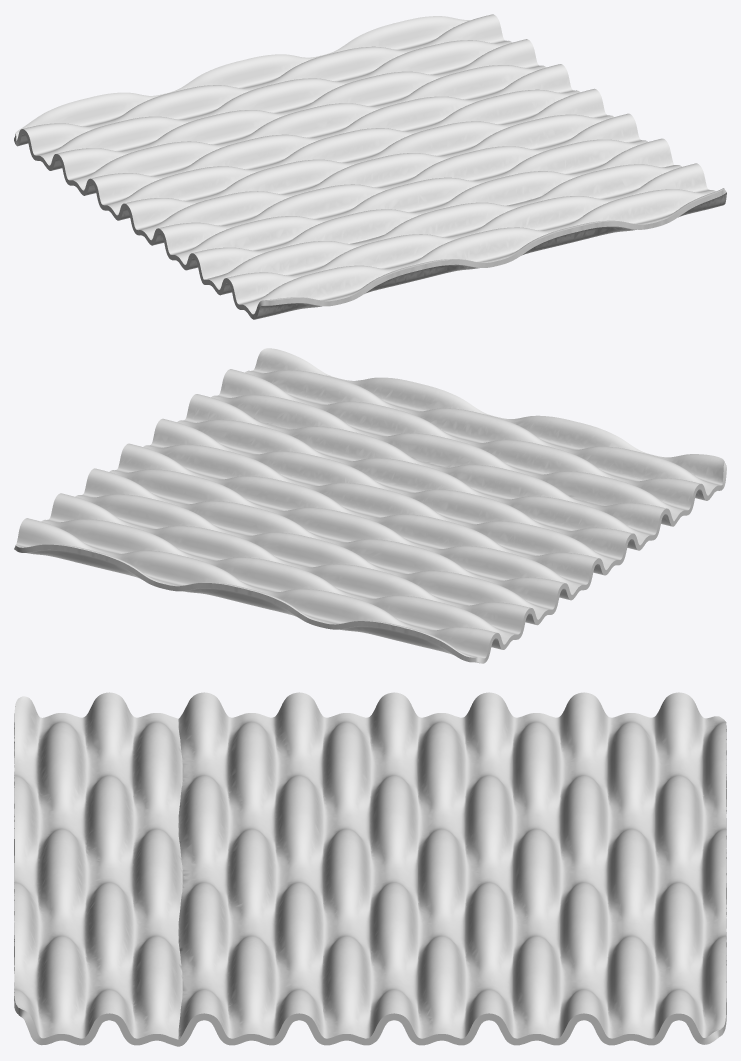
3 views of the same model, one above another, from view 1: azimuth 30°, elevation 25°; view 2: azimuth 150°, elevation 25°; view 3: azimuth 270°, elevation 25° (orthographic). The views are drawn at different scales.
Parts seen in each view (by area): view 1: Cube; view 2: Cube; view 3: Cube.
Boxes of the visible parts, x1=… form: Cube: x1=14, y1=14, x2=726, y2=319; Cube: x1=14, y1=348, x2=726, y2=663; Cube: x1=14, y1=692, x2=726, y2=1046.
Bounding box in the file's own units: 0.1 × 0.00481 × 0.0939.
Materials: 1 (1 with a texture image).
